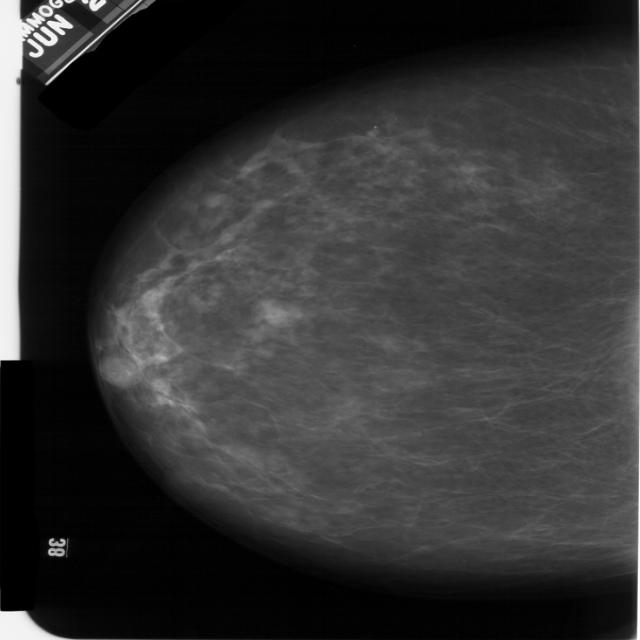tumour: (255, 298, 304, 327)
